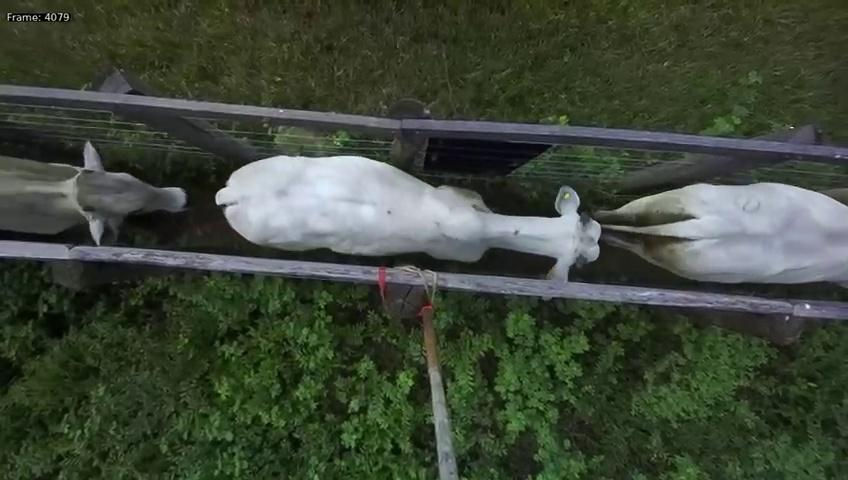cattle: (207, 148, 606, 293)
